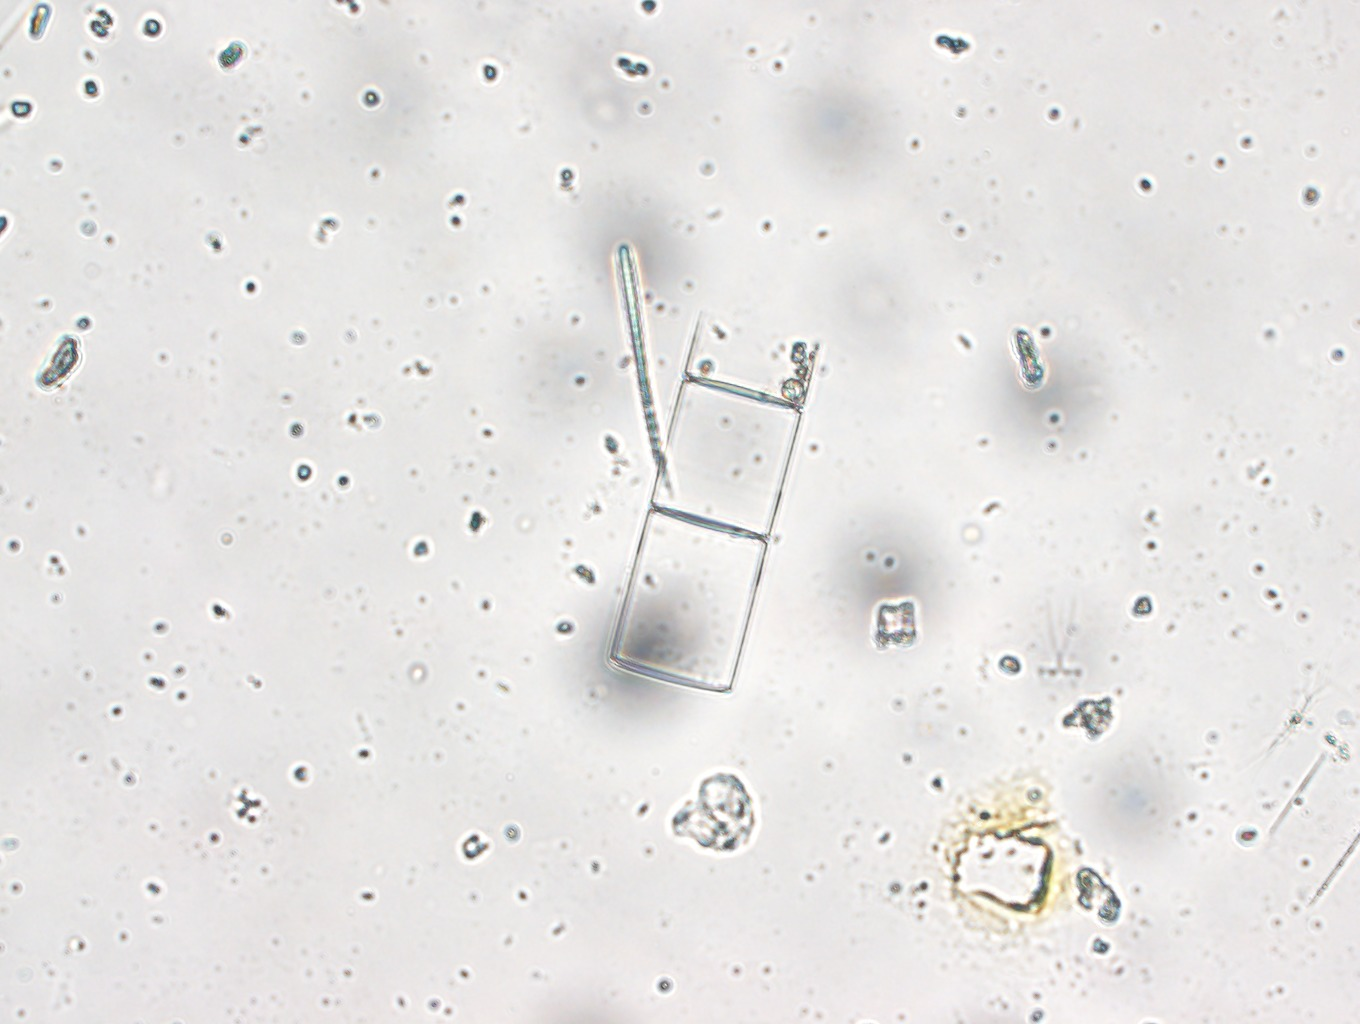guinardia flaccida: (607, 316, 820, 695)
